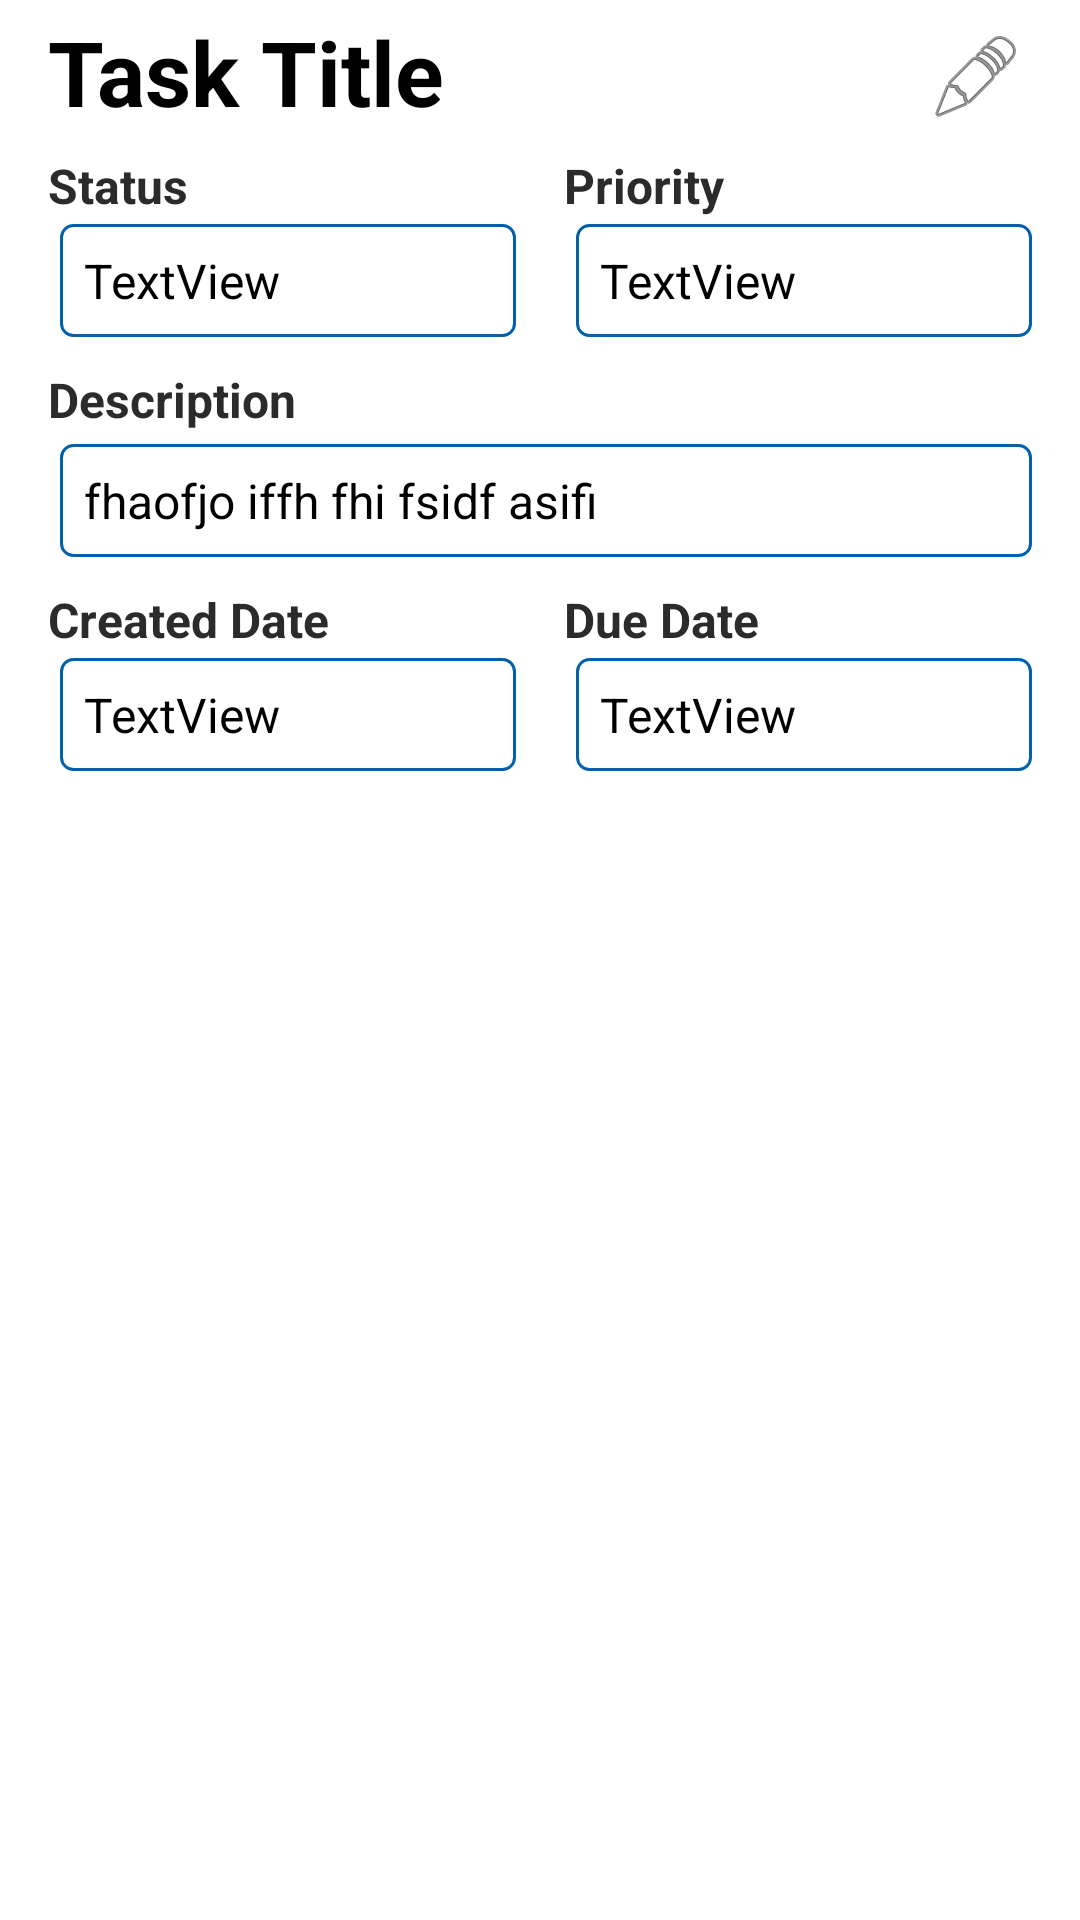

Icon bounding boxes for this 1080px x 1920px phone screenshot, format (x1,y1,x2,y2):
edit: (935,36,1016,117)
